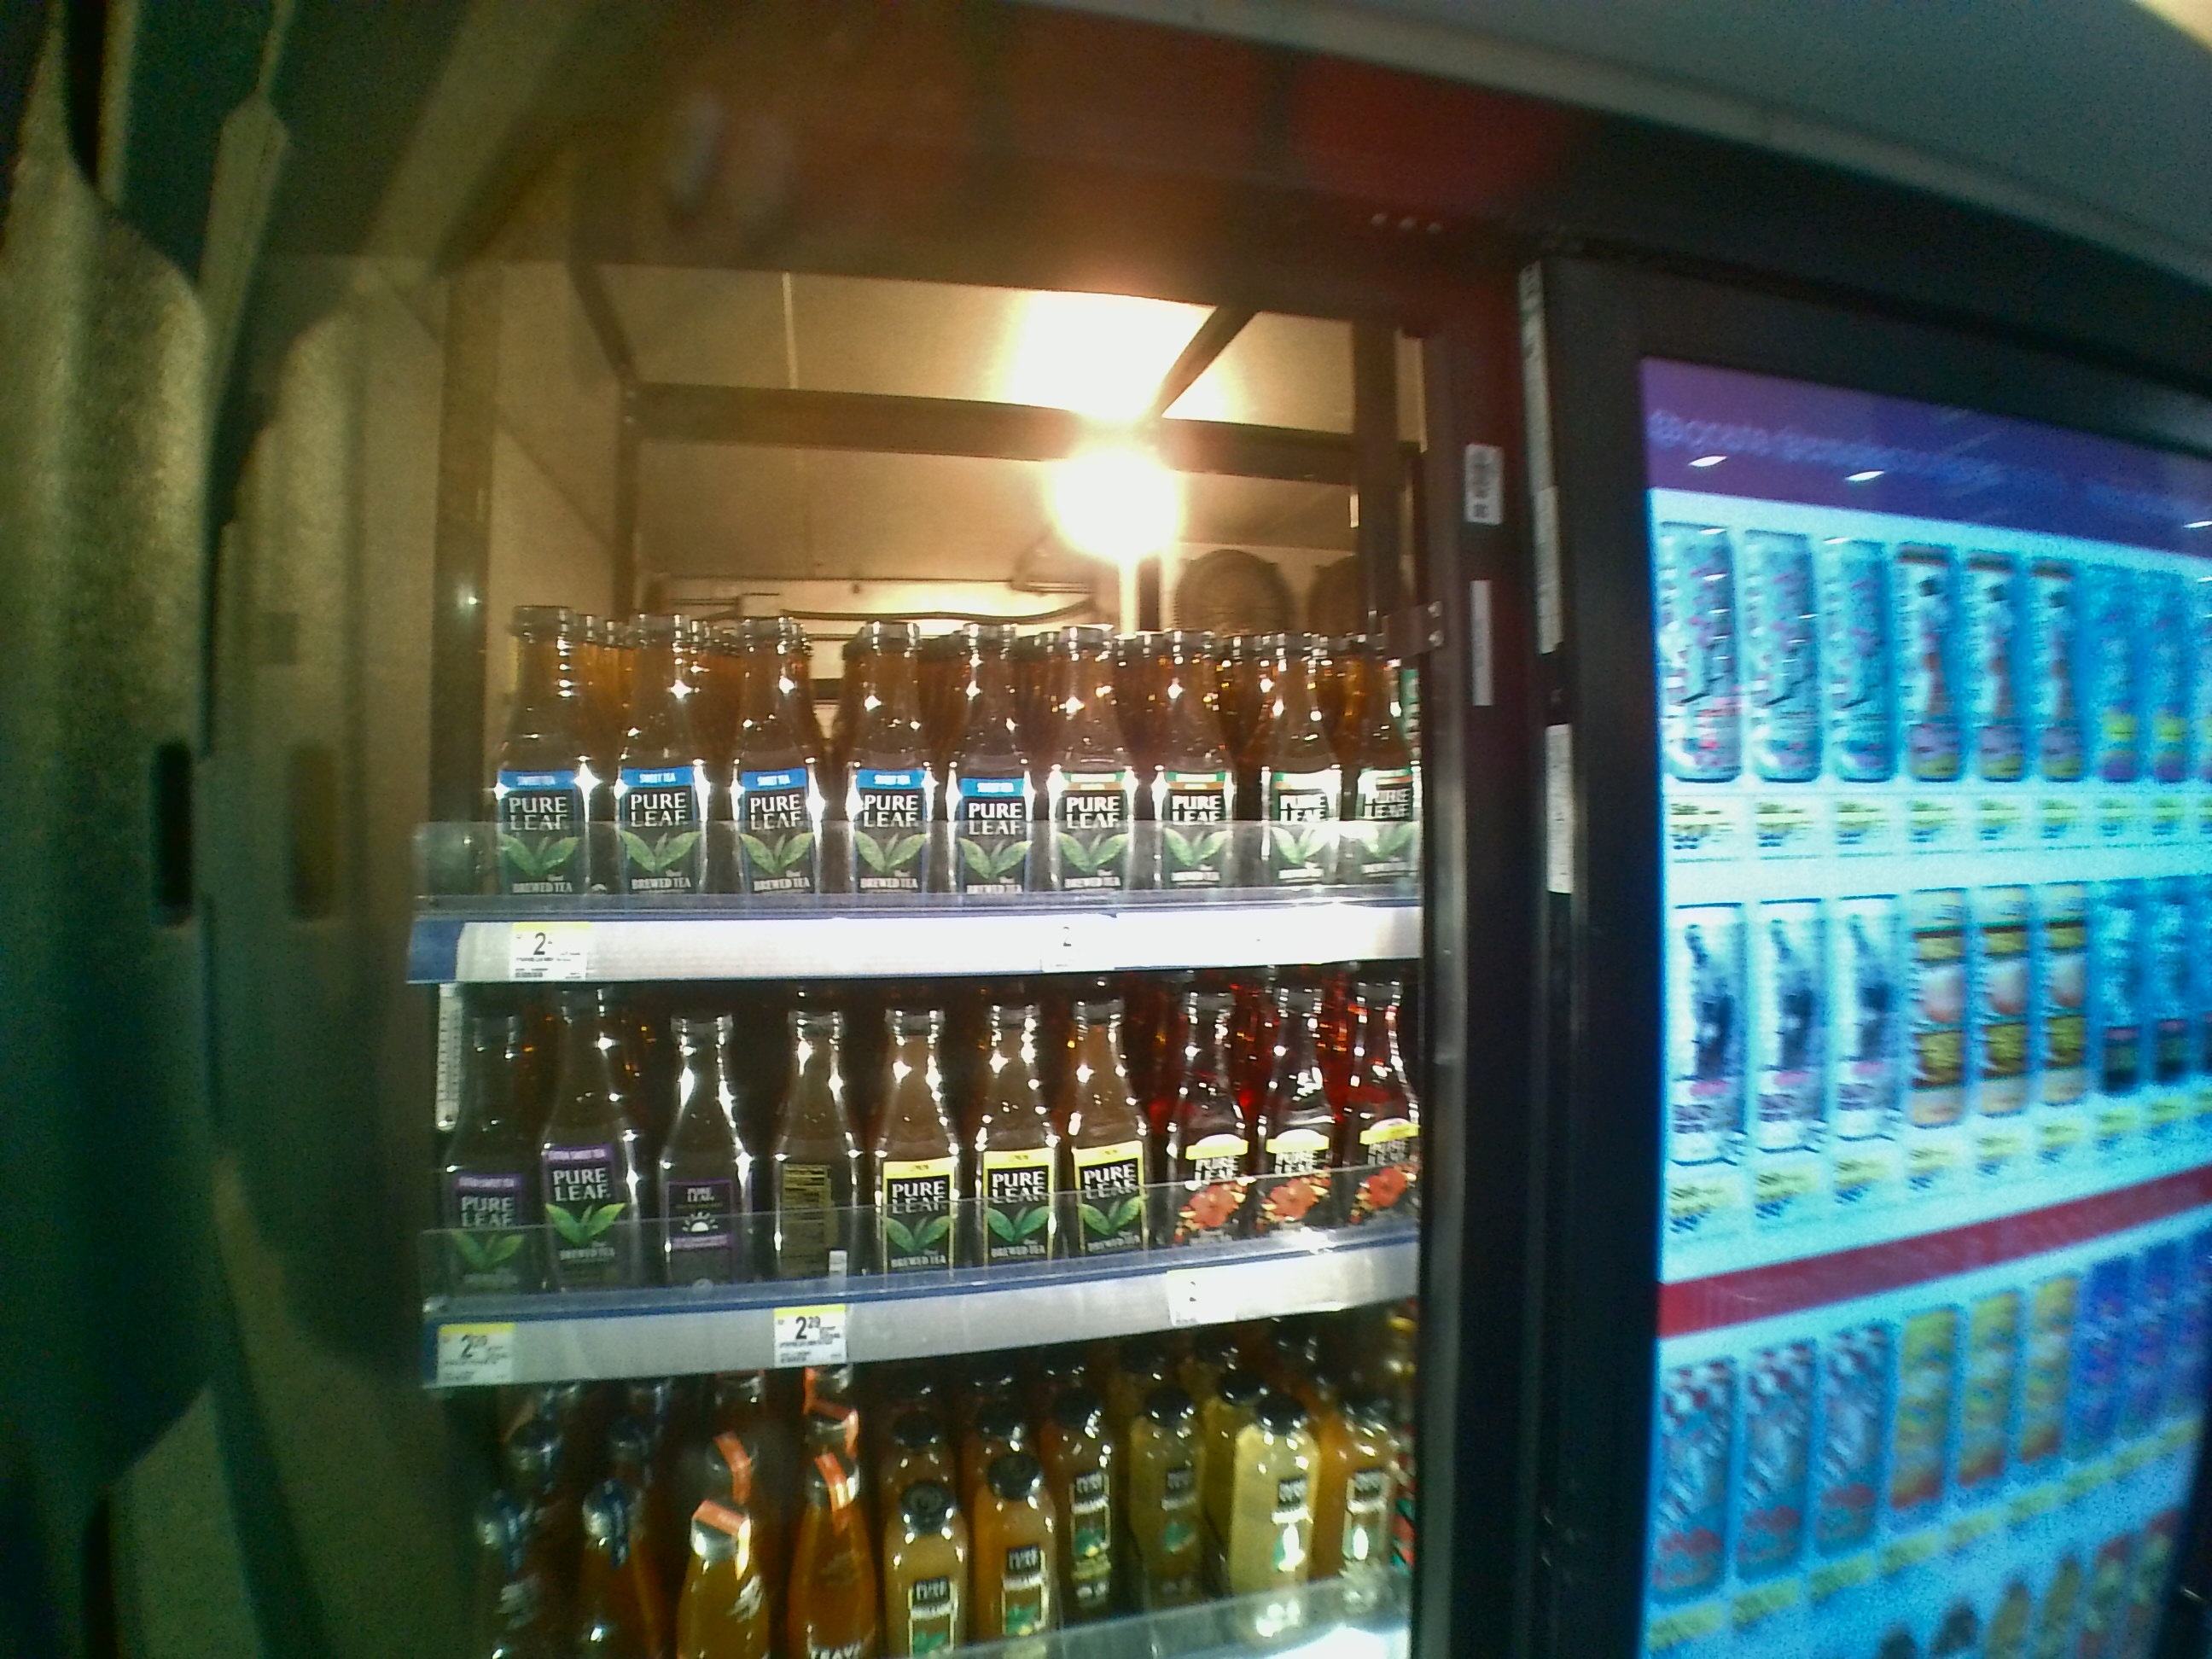shelf: (409, 460, 1430, 985), (421, 990, 1433, 1396)
